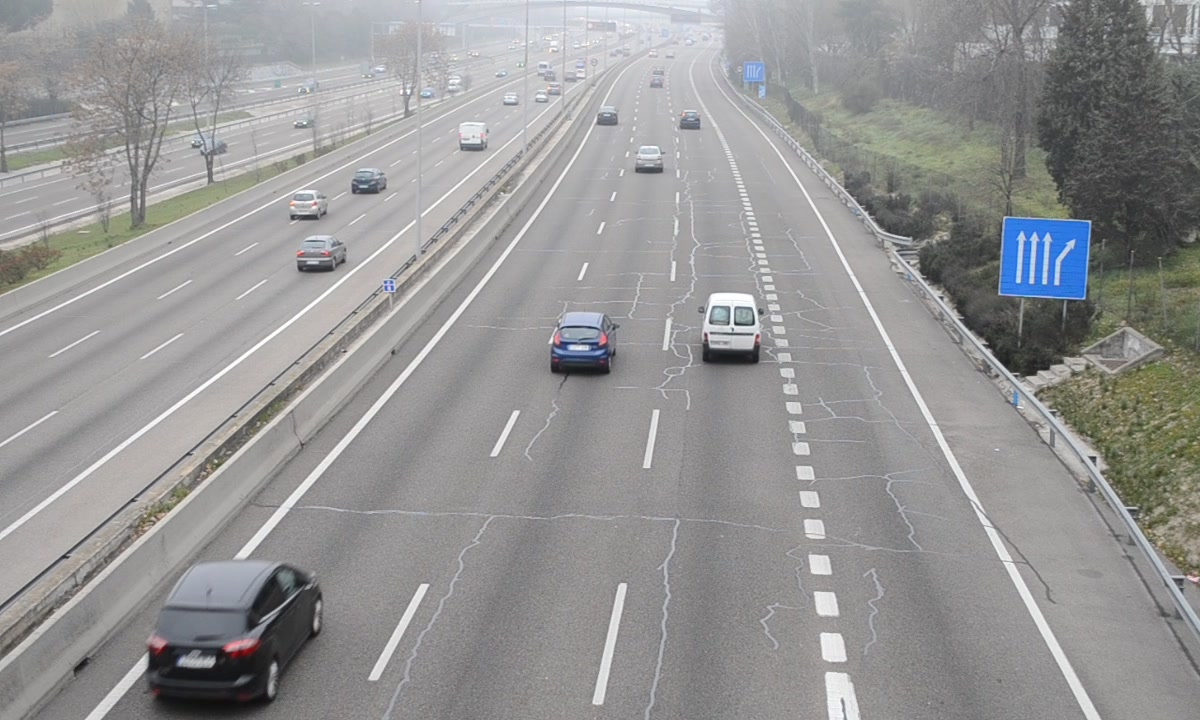car: (147, 561, 321, 696), (548, 314, 615, 373), (634, 146, 663, 173), (596, 104, 619, 127), (678, 109, 702, 131)
van: (702, 294, 762, 359)
